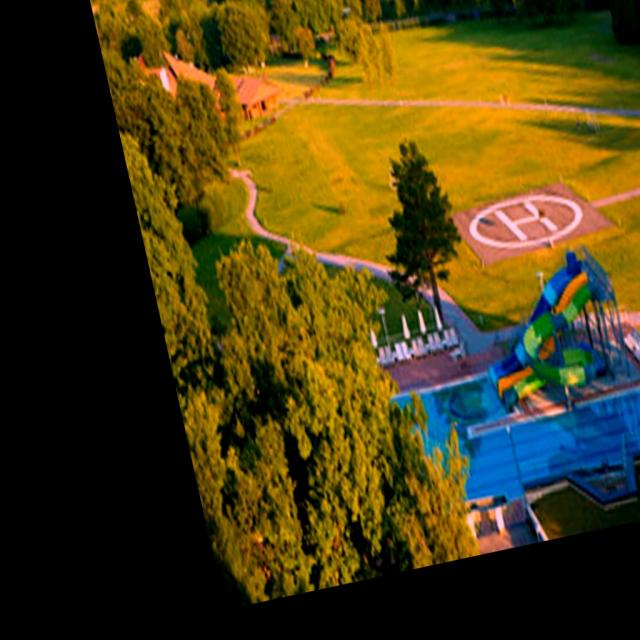helipad: (463, 191, 586, 251)
